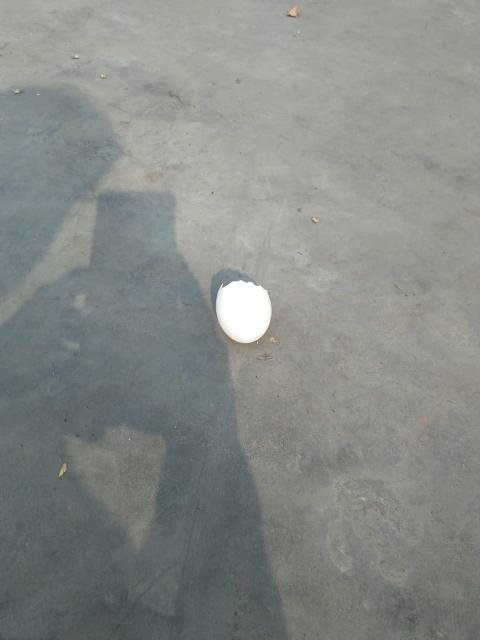Roto: (214, 278, 272, 344)
